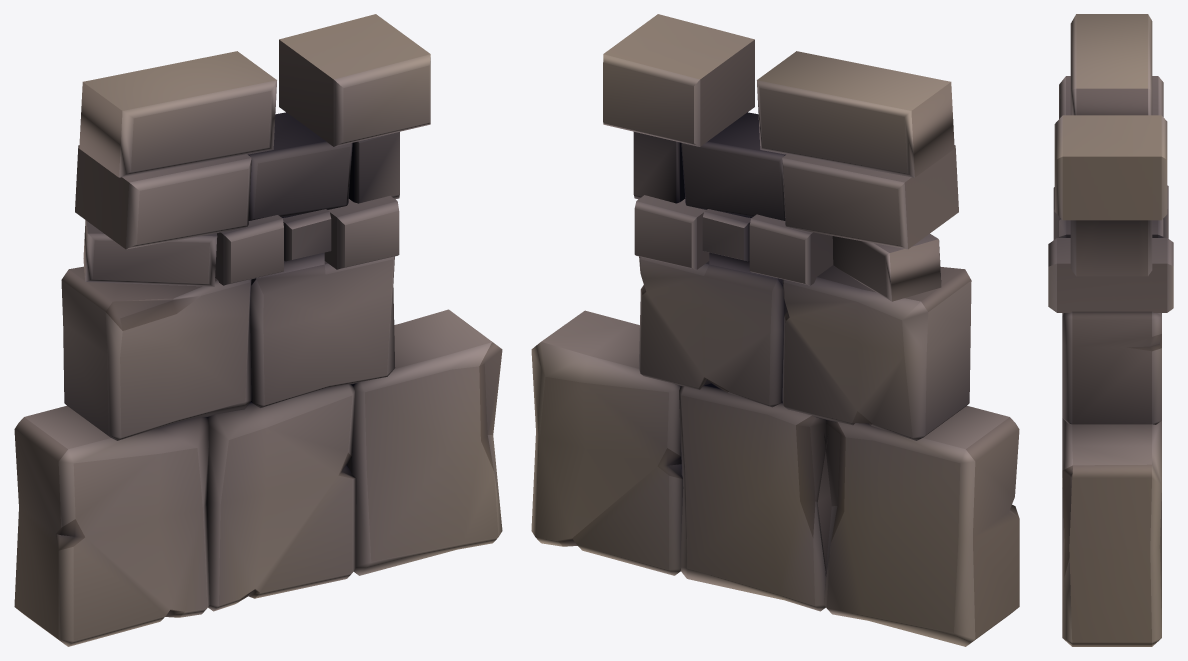
Rendered from buildings-ruins-ancientruins_v4.glb.
3 views of the same model, side by side, from view 1: azimuth 30°, elevation 25°; view 2: azimuth 150°, elevation 25°; view 3: azimuth 270°, elevation 25° (orthographic). The views are drawn at different scales.
Visible parts, largest first — view 1: AncientRuins_v4; view 2: AncientRuins_v4; view 3: AncientRuins_v4.
Boxes of the visible parts, x1,y1,x2,y2 form: AncientRuins_v4: (14, 14, 502, 646); AncientRuins_v4: (531, 14, 1019, 646); AncientRuins_v4: (1048, 14, 1173, 646).
Size of the model in its own units: 3.1 by 3.47 by 0.8382.
